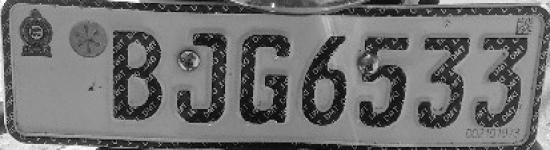3: (419, 37, 469, 128), (478, 37, 528, 127)
6: (360, 36, 410, 126), (301, 36, 348, 126)
B: (113, 30, 161, 120)
G: (240, 34, 289, 122)
J: (171, 34, 227, 122)
